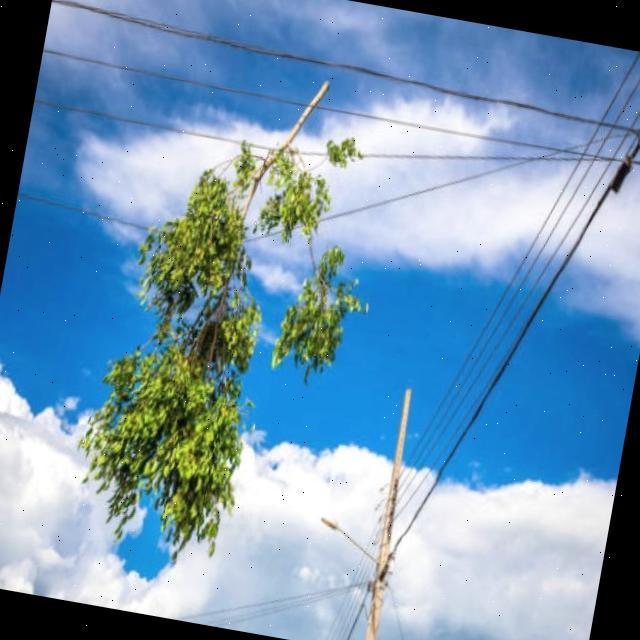critical vegetation: (150, 50, 374, 265)
